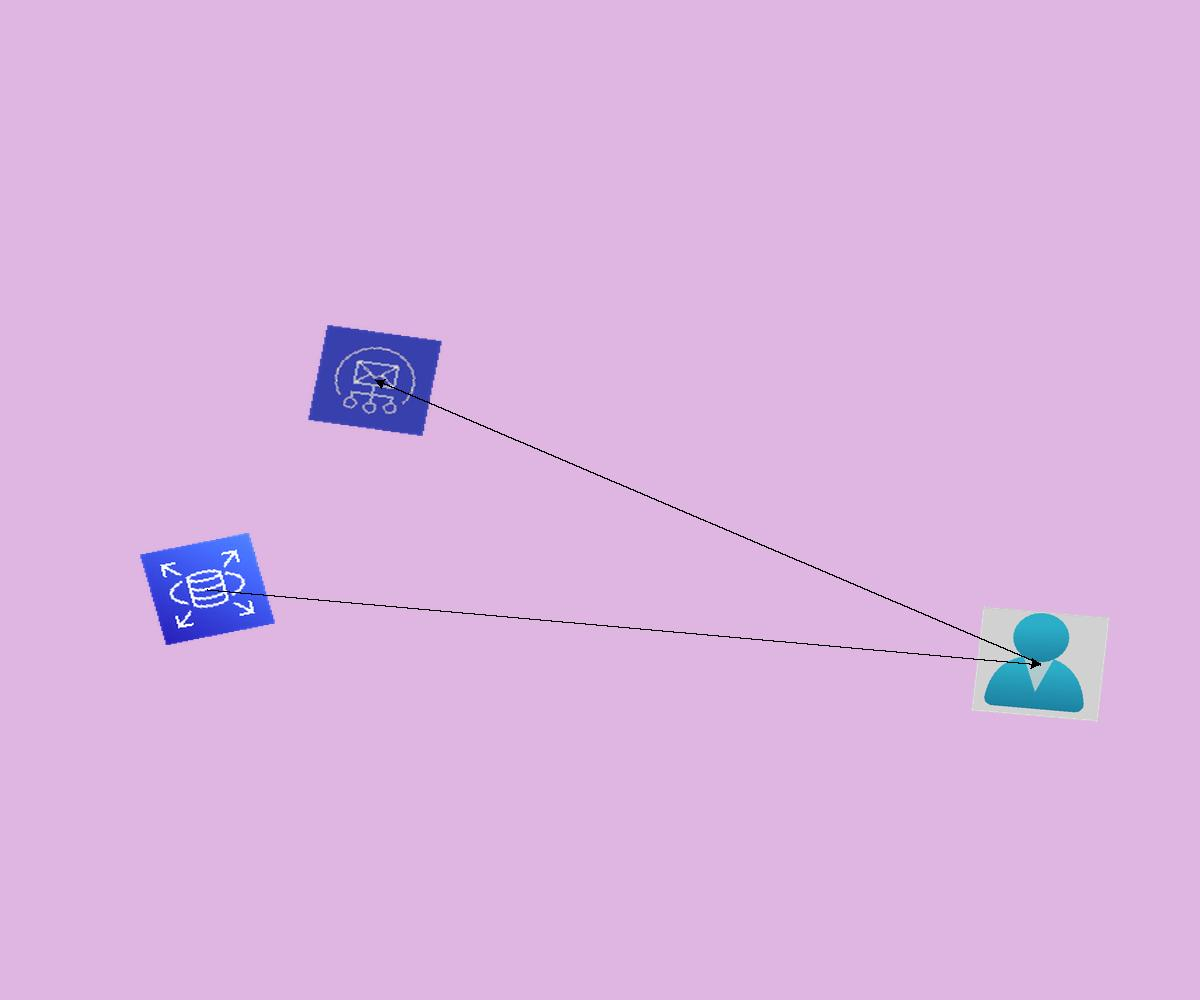AWS-RDS: (139, 532, 276, 646)
AWS-Simple-Email-Service: (307, 324, 443, 437)
Azure_users: (971, 606, 1110, 722)
